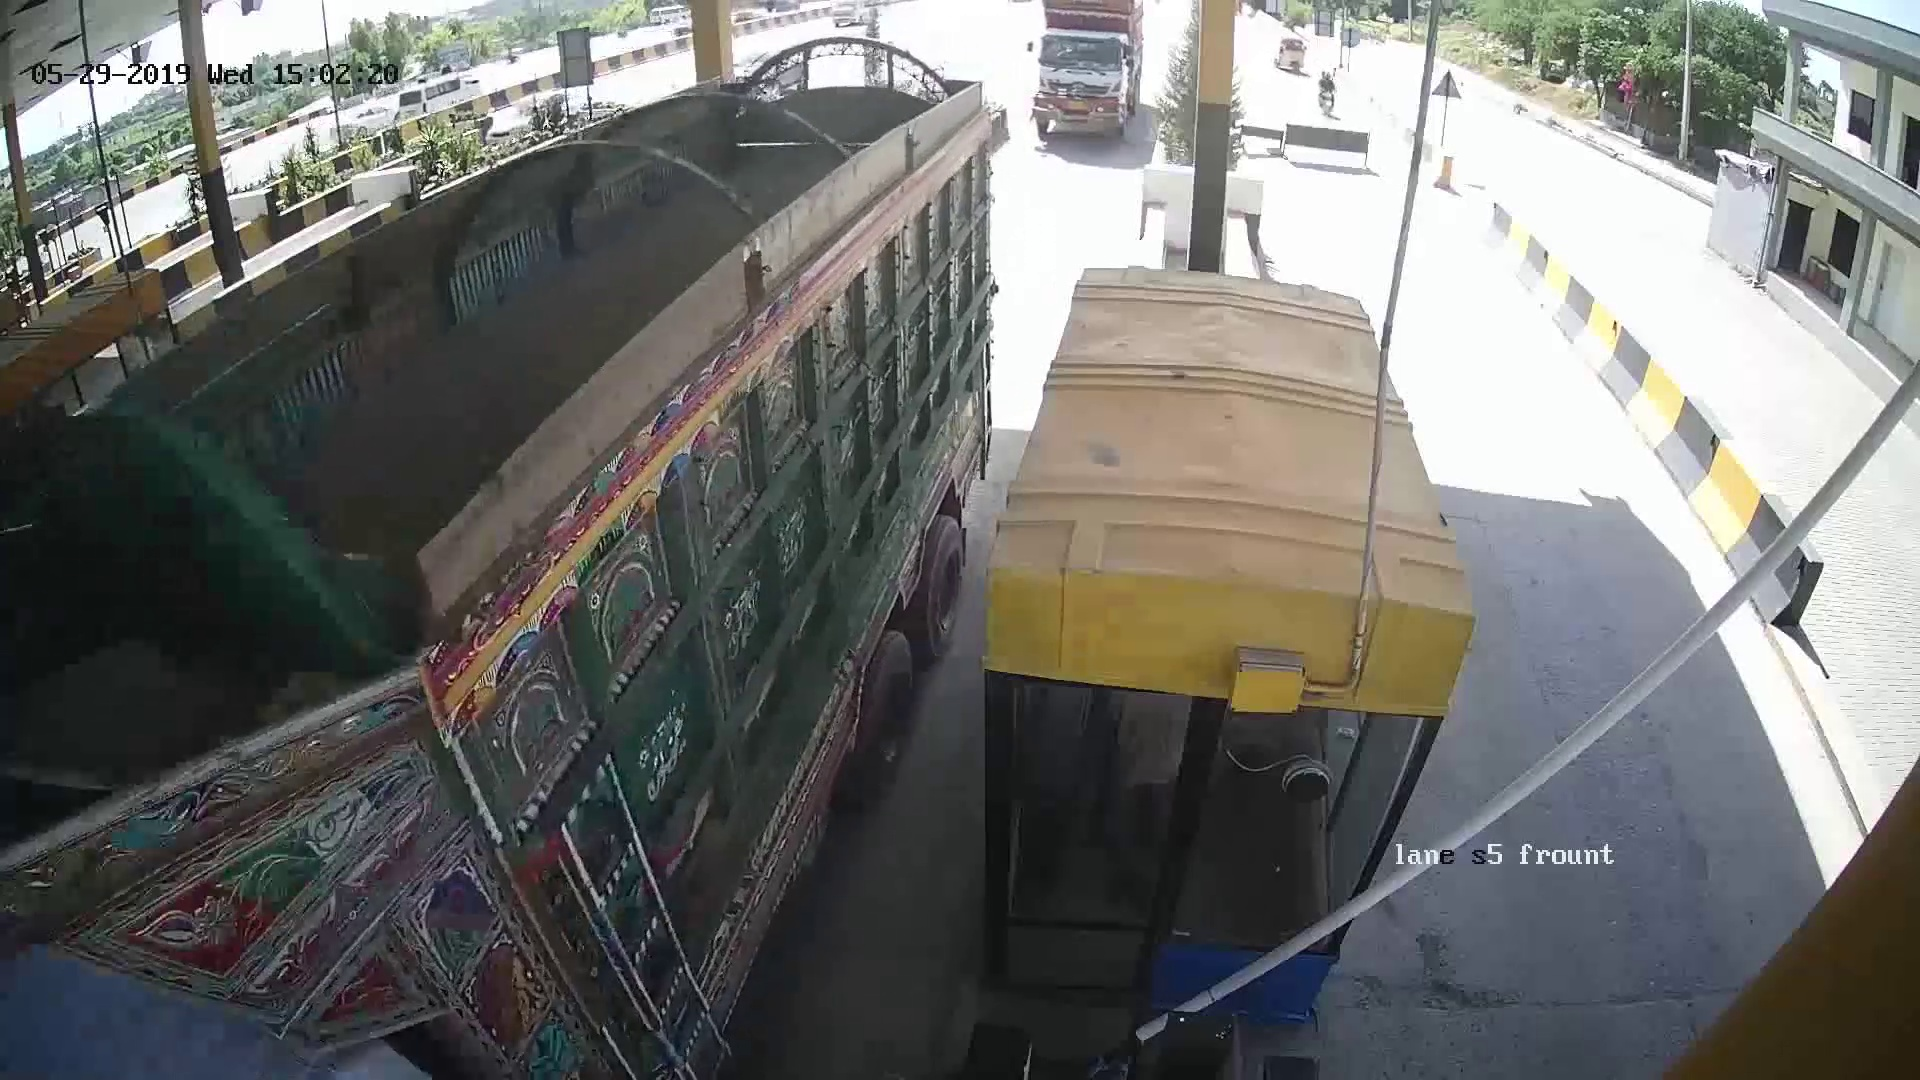truck: (187, 190, 877, 942), (1019, 13, 1149, 154)
